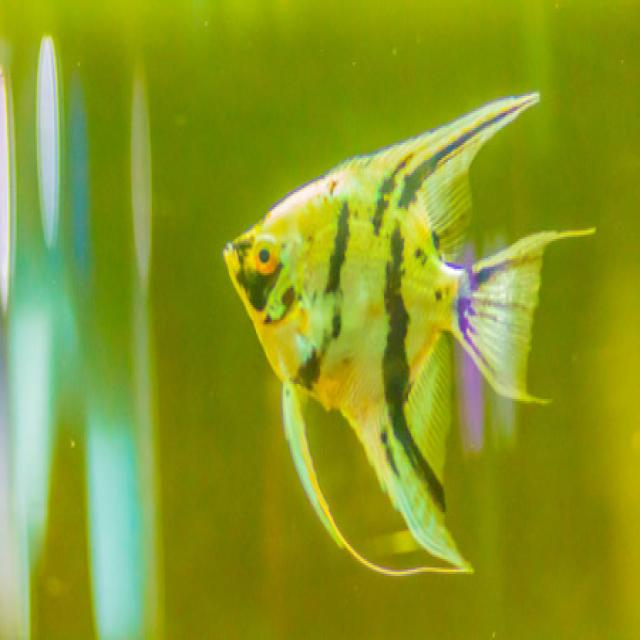AngelFish: (223, 92, 542, 578)
